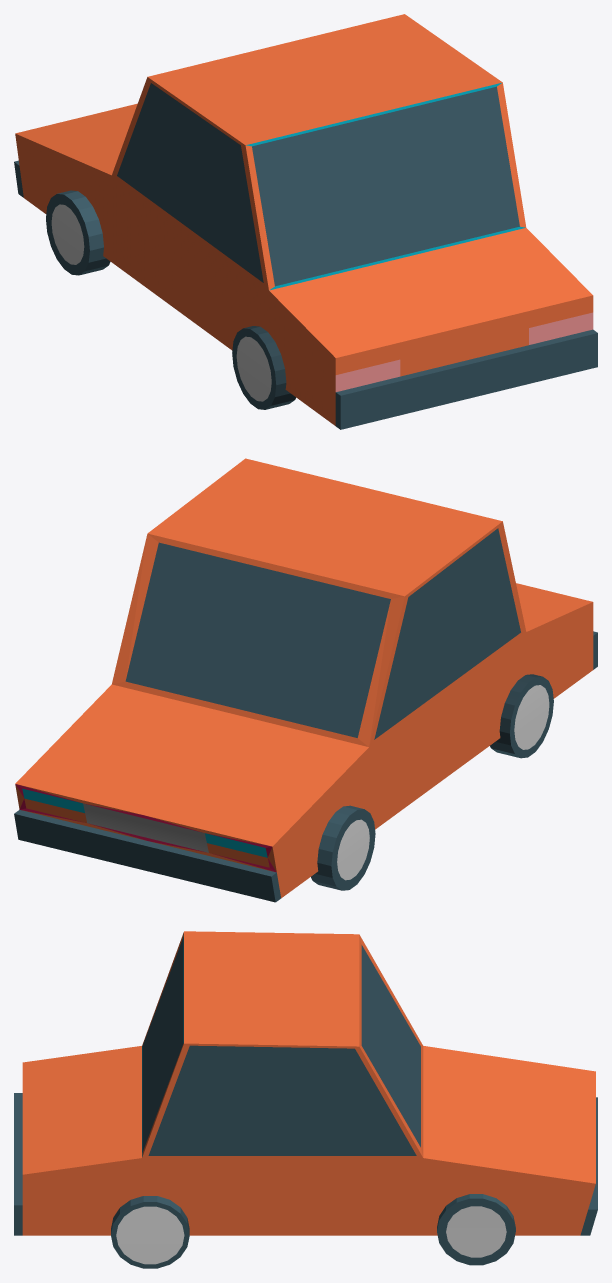
Rendered from Car1Orange1x1.fbx.
3 renders of one model, top to bottom at view 1: azimuth 30°, elevation 25°; view 2: azimuth 150°, elevation 25°; view 3: azimuth 270°, elevation 25°, orthographic. The views are drawn at different scales.
Visible parts, largest first — view 1: Car_04_4; view 2: Car_04_4; view 3: Car_04_4.
Part boxes in pixels (box(x1,y1,x2,y2)): Car_04_4: box(14, 14, 597, 429); Car_04_4: box(14, 458, 597, 902); Car_04_4: box(14, 931, 597, 1268).
Size of the model in its own units: 0.4944 by 0.4046 by 0.9785.
1 material, 1 textured.
